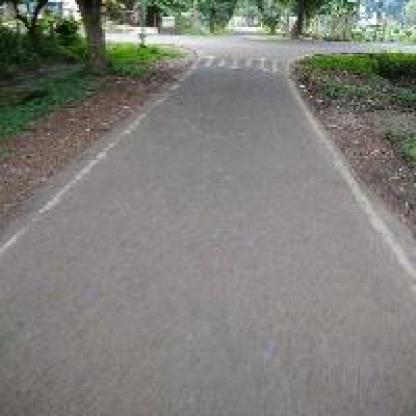Speed Bump: (189, 54, 289, 75)
